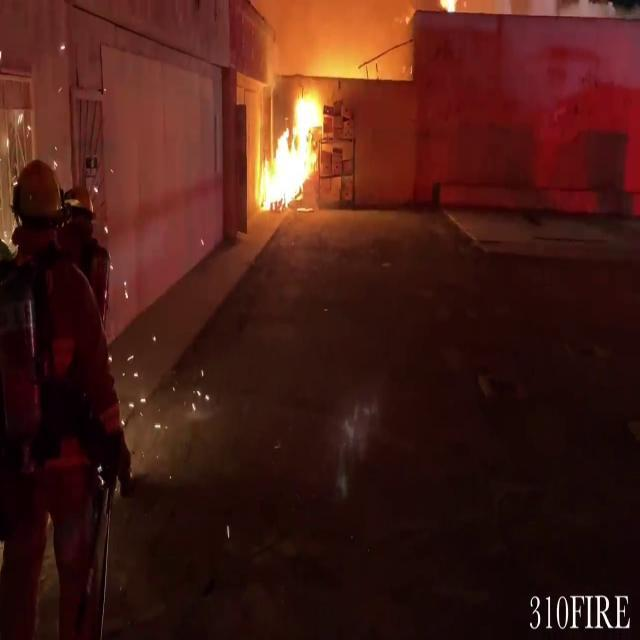Fire: (253, 78, 332, 214)
